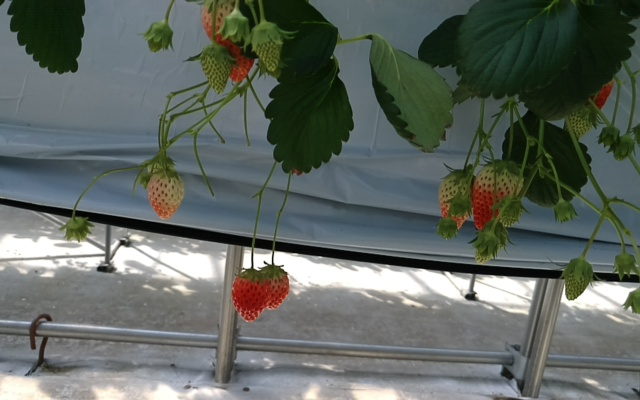GreenStrawberry: (471, 156, 520, 235), (436, 165, 479, 236), (145, 168, 184, 221), (199, 44, 234, 95), (252, 21, 286, 73), (562, 254, 598, 302), (559, 97, 595, 141), (474, 221, 508, 264), (498, 195, 523, 230), (146, 152, 173, 184)
MatureStrawberry: (198, 1, 256, 83), (230, 266, 270, 324), (257, 261, 290, 311)
